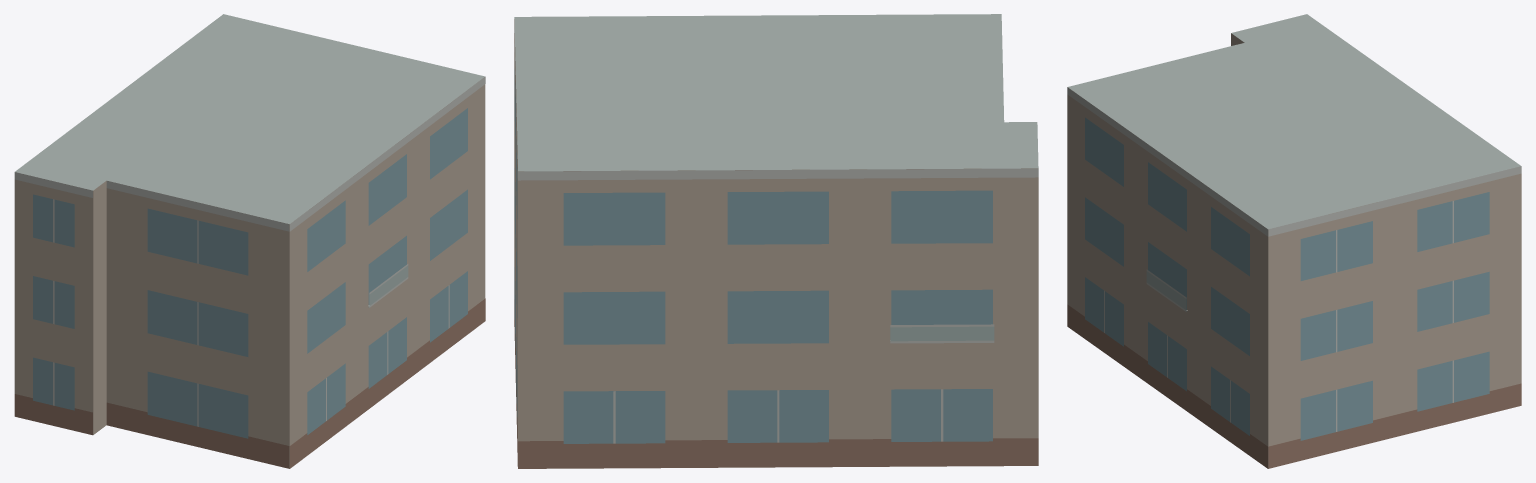
The model's file is survey-upis-32996663.glb.
3 renders of one model, left to right at view 1: azimuth 30°, elevation 25°; view 2: azimuth 150°, elevation 25°; view 3: azimuth 270°, elevation 25°, orthographic. The views are drawn at different scales.
Visible parts, largest first — view 1: survey-upis-32996663.tmp; view 2: survey-upis-32996663.tmp; view 3: survey-upis-32996663.tmp.
Boxes of the visible parts, box(x1,y1,x2,y2) form: survey-upis-32996663.tmp: box(14, 14, 485, 468); survey-upis-32996663.tmp: box(514, 14, 1038, 468); survey-upis-32996663.tmp: box(1067, 14, 1521, 468).
Size of the model in its own units: 15.34 by 7.95 by 13.68.
